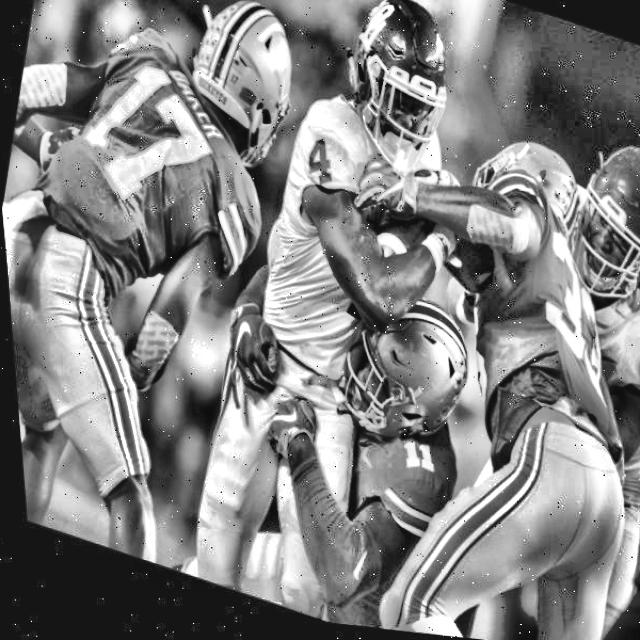Helmet: (312, 274, 486, 478), (159, 0, 321, 203), (314, 0, 474, 201), (545, 118, 640, 334)
